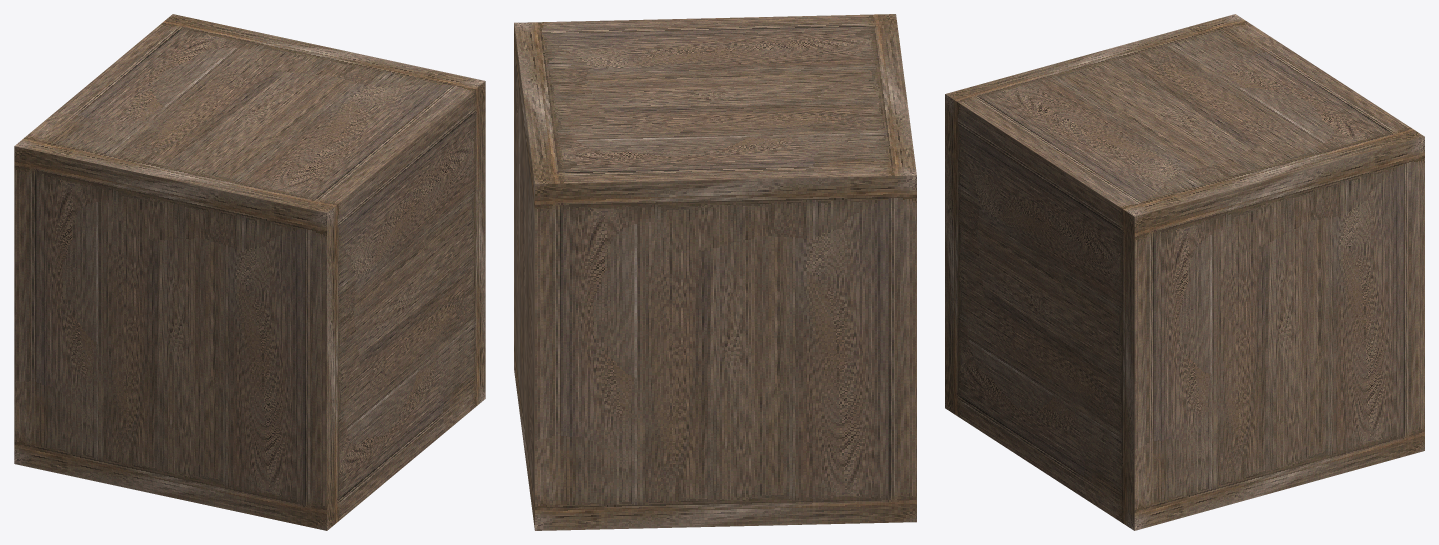
The model's file is crate-1.glb.
3 views of the same model, side by side, from view 1: azimuth 30°, elevation 25°; view 2: azimuth 150°, elevation 25°; view 3: azimuth 270°, elevation 25° (orthographic). The views are drawn at different scales.
Visible parts, largest first — view 1: Crate_1; view 2: Crate_1; view 3: Crate_1.
Boxes of the visible parts, bbox=[...] form: Crate_1: bbox=[14, 14, 485, 530]; Crate_1: bbox=[514, 14, 916, 530]; Crate_1: bbox=[945, 14, 1424, 530].
Size of the model in its own units: 1.01 by 0.7279 by 1.01.
Materials: 1 (1 with a texture image).
